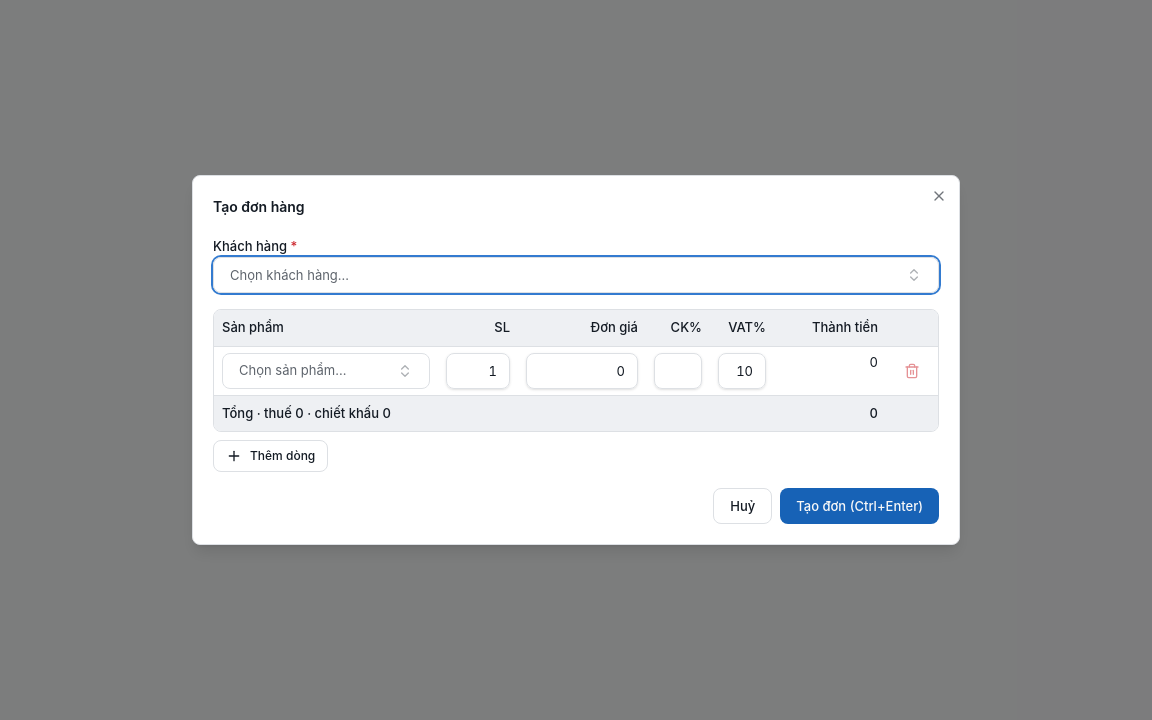
Test case: OrderFormDialog — field array (nợ test PR#4) › thêm/xoá dòng: nút xoá bị chặn khi chỉ còn MỘT dòng
Check: the number of buttons named "Xoá dòng " is 1, box [894,352,930,388]
Check: the button named "Xoá dòng " is disabled, box [894,352,930,388]
Click the button "Thêm dòng". click: point(271, 456)
box: [213,440,328,472]
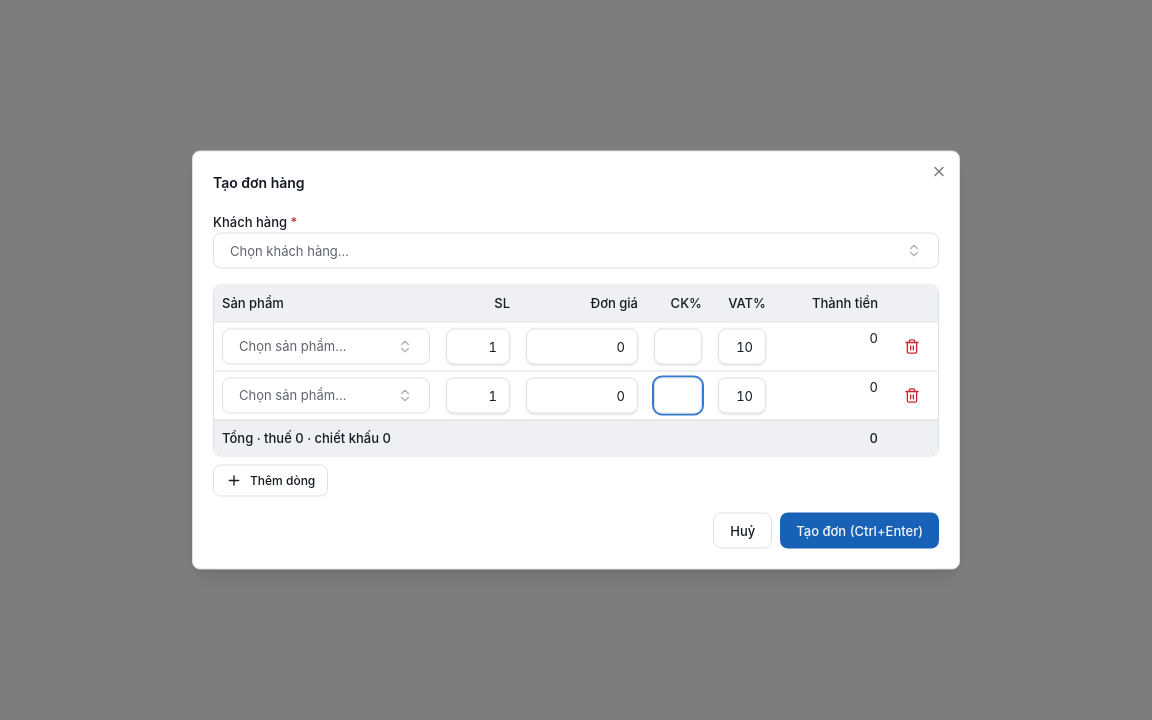
Check: the number of buttons named "Xoá dòng " is 2
Check: the button named "Xoá dòng " is enabled
Click the button named "Xoá dòng ". click: point(912, 346)
box: [894,328,930,364]
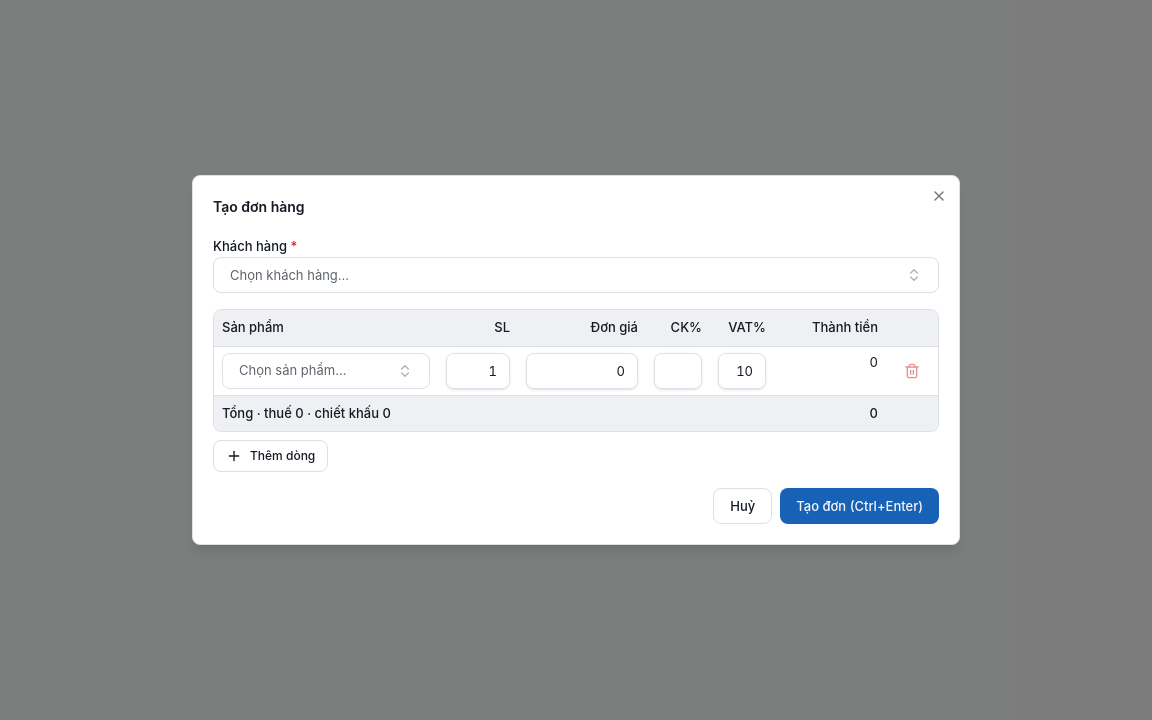
Check: the number of buttons named "Xoá dòng " is 1, box [894,352,930,388]
